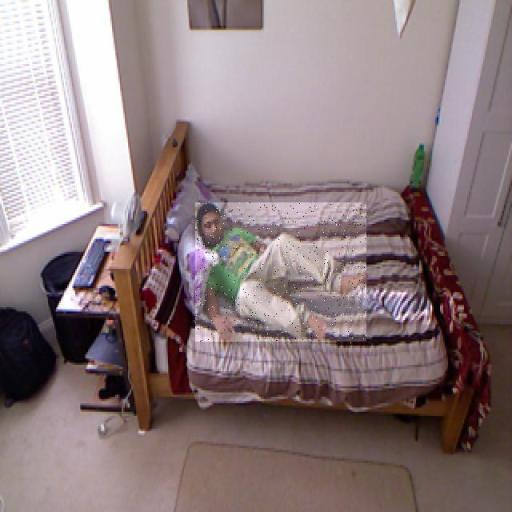Fall: (196, 203, 367, 344)
